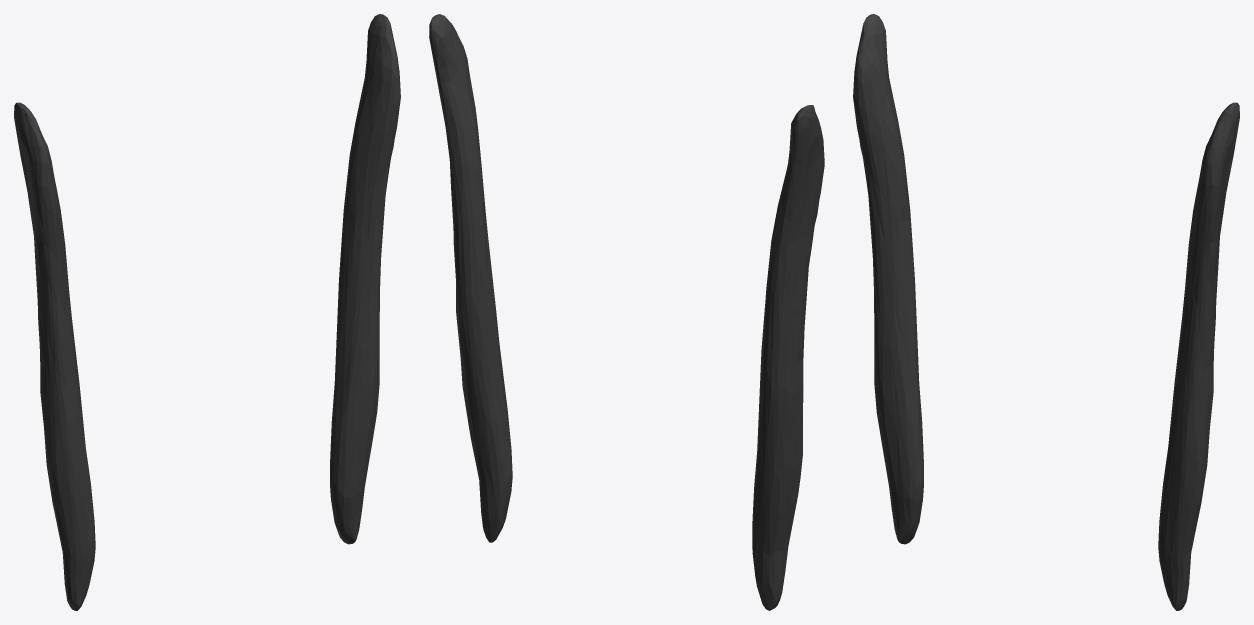
Rendered from m_flexor_digitorum_profundus_ulnar.glb.
3 views of the same model, side by side, from view 1: azimuth 30°, elevation 25°; view 2: azimuth 150°, elevation 25°; view 3: azimuth 330°, elevation 25° (orthographic). The views are drawn at different scales.
Parts seen in each view (by area): view 1: m_flexor_digitorum_profundus_ulnar; view 2: m_flexor_digitorum_profundus_ulnar; view 3: m_flexor_digitorum_profundus_ulnar.
Boxes of the visible parts, box(x1,y1,x2,y2) form: m_flexor_digitorum_profundus_ulnar: box(14, 14, 400, 610); m_flexor_digitorum_profundus_ulnar: box(429, 14, 824, 610); m_flexor_digitorum_profundus_ulnar: box(853, 14, 1239, 610).
Size of the model in its own units: 0.00511 by 0.00671 by 0.000644.
Materials: 1 (1 with a texture image).
